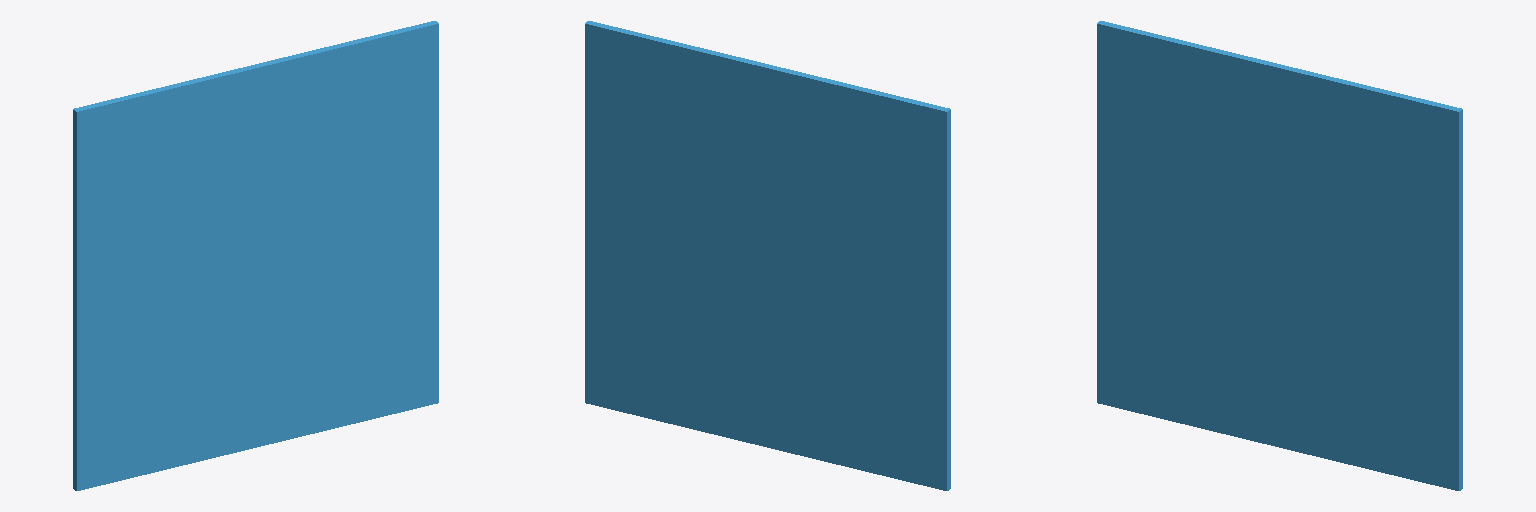
The robot description file, URDF, robot "ground_skeleton":
<?xml version="1.0"?>
<robot name="ground_skeleton">
    <link name="world" />
    <link name="ground_link">
        <inertial>
            <mass value="1.0" />
            <origin xyz="0 0 0" rpy="0 0 0" />
            <inertia ixx="1.0" ixy="0" ixz="0" iyy="1.0" iyz="0" izz="1.0" />
        </inertial>
        <visual>
            <origin xyz="0 -1.0 0" rpy="0 -0 0" />
            <geometry>
                <box size="2.5 0.05 2.5" />
            </geometry>
        </visual>
        <collision group="default">
            <origin xyz="0 -1.0 0" rpy="0 -0 0" />
            <geometry>
                <box size="2.5 0.05 2.5" />
            </geometry>
        </collision>
    </link>
    <joint name="ground_joint" type="fixed">
        <origin xyz="0 0 0" rpy="0 0 0" />
        <parent link="world" />
        <child link="ground_link" />
    </joint>
</robot>

--- Facts derived from the render (not from the file) ---
3 views of the same robot in one strip: view 1: azimuth 30°, elevation 25°; view 2: azimuth 150°, elevation 25°; view 3: azimuth 330°, elevation 25° (orthographic).
Model ground_skeleton with 2 links and 1 joints (1 fixed), rooted at world, posed every joint at zero.
Links seen in each view (by area): view 1: ground_link; view 2: ground_link; view 3: ground_link.
Link boxes in pixels (bbox=[...]): ground_link: bbox=[73, 21, 438, 490]; ground_link: bbox=[585, 21, 950, 490]; ground_link: bbox=[1097, 21, 1462, 490].
Size in the robot's own frame: 2.5 by 0.05 by 2.5 metres.
Geometry: primitives only (box / cylinder / sphere), no mesh files.